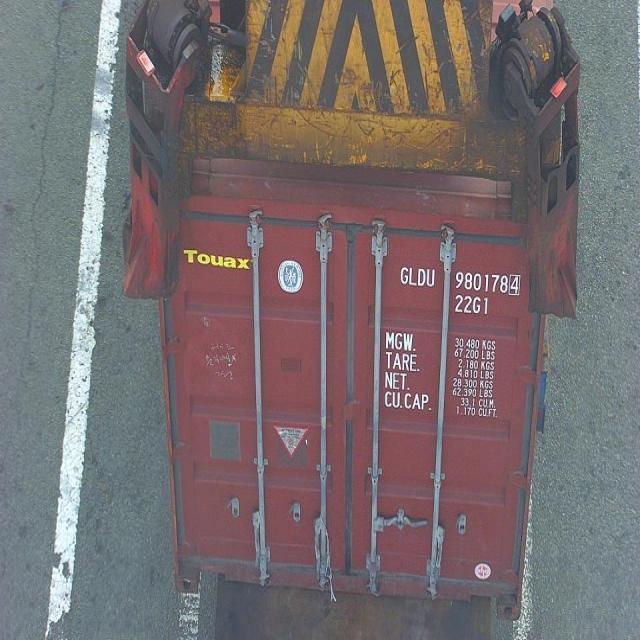ISO: (454, 296, 492, 316)
container_number: (399, 265, 524, 294)
